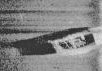ship: (49, 26, 102, 56)
